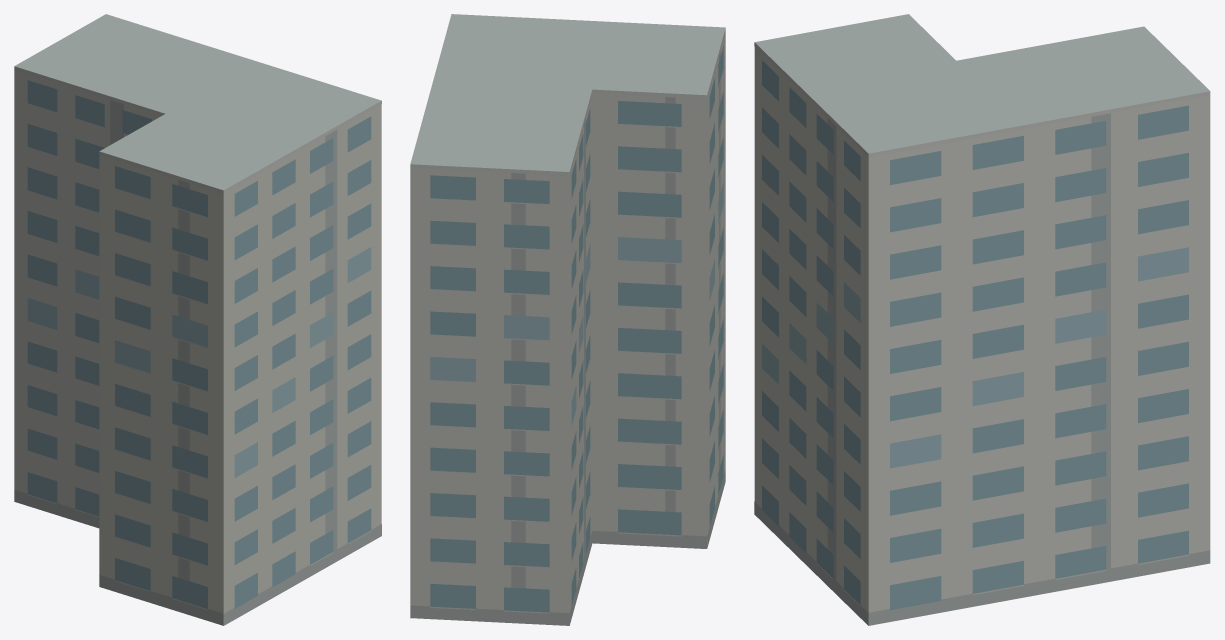
Rendered from residential-a0f39cbf-df2b-4685-9185-6ca5b17afdf9.glb.
3 renders of one model, left to right at view 1: azimuth 30°, elevation 25°; view 2: azimuth 150°, elevation 25°; view 3: azimuth 270°, elevation 25°, orthographic. The views are drawn at different scales.
Parts seen in each view (by area): view 1: residential-a0f39cbf-df2b-4685-9185-6ca5b17afdf9.tmp; view 2: residential-a0f39cbf-df2b-4685-9185-6ca5b17afdf9.tmp; view 3: residential-a0f39cbf-df2b-4685-9185-6ca5b17afdf9.tmp.
Boxes of the visible parts, x1=… form: residential-a0f39cbf-df2b-4685-9185-6ca5b17afdf9.tmp: x1=14, y1=14, x2=381, y2=625; residential-a0f39cbf-df2b-4685-9185-6ca5b17afdf9.tmp: x1=410, y1=14, x2=725, y2=625; residential-a0f39cbf-df2b-4685-9185-6ca5b17afdf9.tmp: x1=754, y1=14, x2=1210, y2=625.
Size of the model in its own units: 18.4 by 29 by 25.38.
